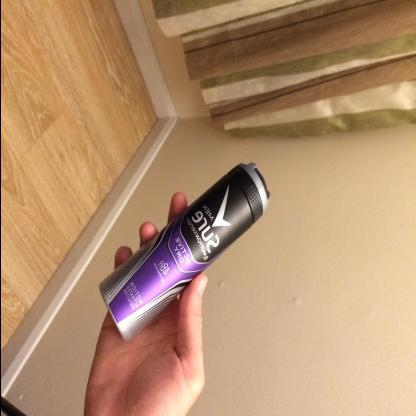metal: (96, 160, 270, 342)
